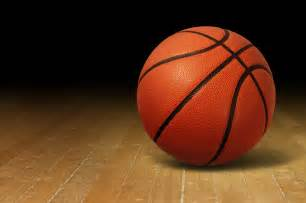basketball: (134, 23, 277, 170)
